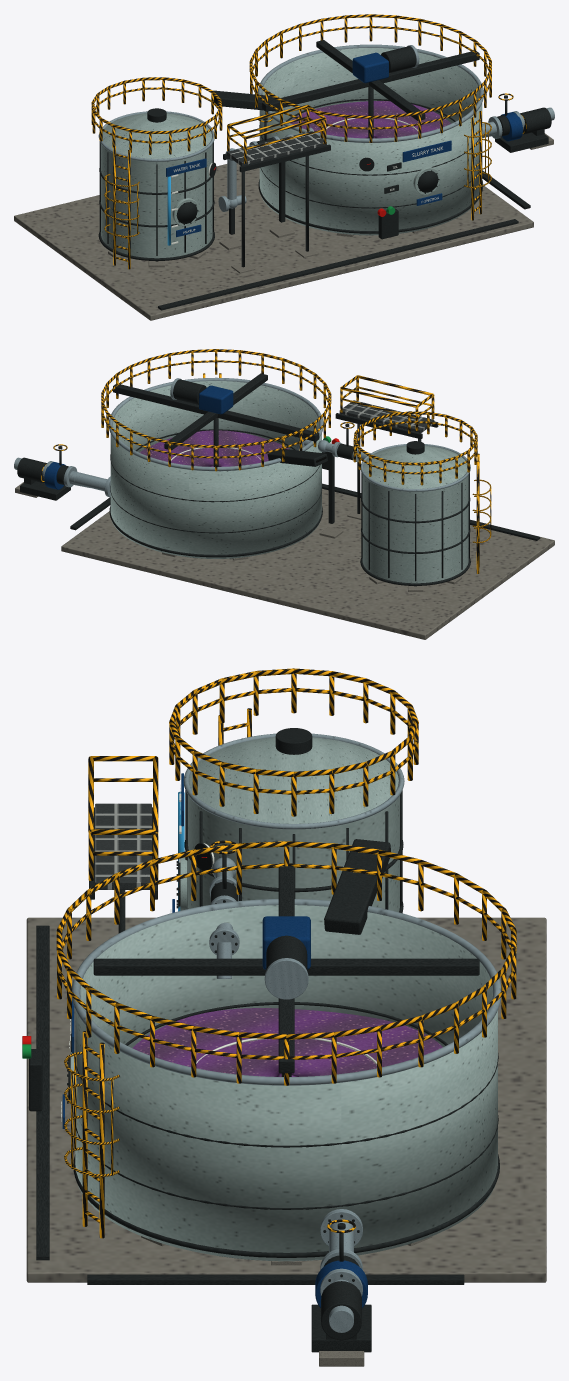
File: level3_slurry_water_tanks_industrial_uv.glb
3 views of the same model, one above another, from view 1: azimuth 30°, elevation 25°; view 2: azimuth 150°, elevation 25°; view 3: azimuth 270°, elevation 25° (orthographic). The views are drawn at different scales.
Visible parts, largest first — view 1: L3_TankArea_ConcretePad, L3_SlurryTank_OpenShell_SmoothSteel, L3_WaterTank_VerticalShell_SmoothSteel, L3_WaterTank_ShallowConicalRoof, L3_SlurryTank_PurpleSlurry_WavySurface_50Percent, L3_TankArea_DrainChannel_Front, L3_SlurryTank_AgitatorBridge_PrimaryBeam, L3_SlurryTank_HeavyTopRimPipe, L3_TankArea_BetweenTanks_GratingCatwalk, L3_SlurryTank_AgitatorBridge_CrossBrace, L3_SlurryTank_AgitatorGearbox_Rounded, L3_SlurryTank_InclinedOreFeedChute (+16 smaller); view 2: L3_SlurryTank_OpenShell_SmoothSteel, L3_TankArea_ConcretePad, L3_WaterTank_VerticalShell_SmoothSteel, L3_WaterTank_ShallowConicalRoof, L3_SlurryTank_PurpleSlurry_WavySurface_50Percent, L3_SlurryTank_AgitatorBridge_PrimaryBeam, L3_SlurryTank_HeavyTopRimPipe, L3_TankArea_BetweenTanks_GratingCatwalk, L3_SlurryTank_AgitatorBridge_CrossBrace, L3_SlurryTank_AgitatorGearbox_Rounded, L3_SlurryTank_BottomReinforcementRing, L3_SlurryTank_InclinedOreFeedChute (+11 smaller); view 3: L3_SlurryTank_OpenShell_SmoothSteel, L3_TankArea_ConcretePad, L3_SlurryTank_PurpleSlurry_WavySurface_50Percent, L3_WaterTank_ShallowConicalRoof, L3_WaterTank_VerticalShell_SmoothSteel, L3_SlurryTank_HeavyTopRimPipe, L3_SlurryTank_AgitatorBridge_CrossBrace, L3_TankArea_DrainChannel_Front, L3_TankArea_BetweenTanks_GratingCatwalk, L3_TankArea_DrainChannel_Right, L3_SlurryTank_InclinedOreFeedChute, L3_SlurryTank_BottomReinforcementRing (+14 smaller).
Part boxes in pixels (left/top/right/bottom): L3_TankArea_ConcretePad: left=14, top=163, right=533, bottom=320; L3_SlurryTank_OpenShell_SmoothSteel: left=259, top=48, right=482, bottom=235; L3_WaterTank_VerticalShell_SmoothSteel: left=101, top=144, right=212, bottom=258; L3_WaterTank_ShallowConicalRoof: left=102, top=113, right=211, bottom=158; L3_SlurryTank_PurpleSlurry_WavySurface_50Percent: left=289, top=101, right=450, bottom=138; L3_TankArea_DrainChannel_Front: left=158, top=219, right=518, bottom=310; L3_SlurryTank_AgitatorBridge_PrimaryBeam: left=262, top=51, right=479, bottom=111; L3_SlurryTank_HeavyTopRimPipe: left=258, top=44, right=483, bottom=142; L3_TankArea_BetweenTanks_GratingCatwalk: left=227, top=131, right=326, bottom=165; L3_SlurryTank_AgitatorBridge_CrossBrace: left=316, top=40, right=425, bottom=120; L3_SlurryTank_AgitatorGearbox_Rounded: left=352, top=52, right=388, bottom=83; L3_SlurryTank_InclinedOreFeedChute: left=213, top=90, right=279, bottom=111; L3_SlurryTank_OpenShell_SmoothSteel: left=110, top=381, right=321, bottom=558; L3_TankArea_ConcretePad: left=61, top=488, right=554, bottom=639; L3_WaterTank_VerticalShell_SmoothSteel: left=362, top=475, right=468, bottom=583; L3_WaterTank_ShallowConicalRoof: left=363, top=445, right=467, bottom=488; L3_SlurryTank_PurpleSlurry_WavySurface_50Percent: left=139, top=430, right=289, bottom=466; L3_SlurryTank_AgitatorBridge_PrimaryBeam: left=113, top=384, right=319, bottom=441; L3_SlurryTank_HeavyTopRimPipe: left=109, top=377, right=323, bottom=471; L3_TankArea_BetweenTanks_GratingCatwalk: left=339, top=400, right=434, bottom=433; L3_SlurryTank_AgitatorBridge_CrossBrace: left=164, top=373, right=267, bottom=450; L3_SlurryTank_AgitatorGearbox_Rounded: left=199, top=385, right=233, bottom=414; L3_SlurryTank_BottomReinforcementRing: left=109, top=505, right=322, bottom=557; L3_SlurryTank_InclinedOreFeedChute: left=267, top=449, right=327, bottom=466; L3_SlurryTank_OpenShell_SmoothSteel: left=75, top=905, right=497, bottom=1260; L3_TankArea_ConcretePad: left=26, top=917, right=546, bottom=1282; L3_SlurryTank_PurpleSlurry_WavySurface_50Percent: left=132, top=1008, right=442, bottom=1076; L3_WaterTank_ShallowConicalRoof: left=189, top=737, right=398, bottom=823; L3_WaterTank_VerticalShell_SmoothSteel: left=188, top=795, right=399, bottom=912; L3_SlurryTank_HeavyTopRimPipe: left=72, top=899, right=501, bottom=1085; L3_SlurryTank_AgitatorBridge_CrossBrace: left=93, top=958, right=479, bottom=975; L3_TankArea_DrainChannel_Front: left=36, top=925, right=49, bottom=1260; L3_TankArea_BetweenTanks_GratingCatwalk: left=95, top=803, right=151, bottom=889; L3_TankArea_DrainChannel_Right: left=87, top=1274, right=464, bottom=1284; L3_SlurryTank_InclinedOreFeedChute: left=324, top=839, right=390, bottom=934; L3_SlurryTank_BottomReinforcementRing: left=73, top=1154, right=499, bottom=1257.
Size of the model in its own units: 14.5 by 4.2 by 7.16.
1 material, 1 textured.
